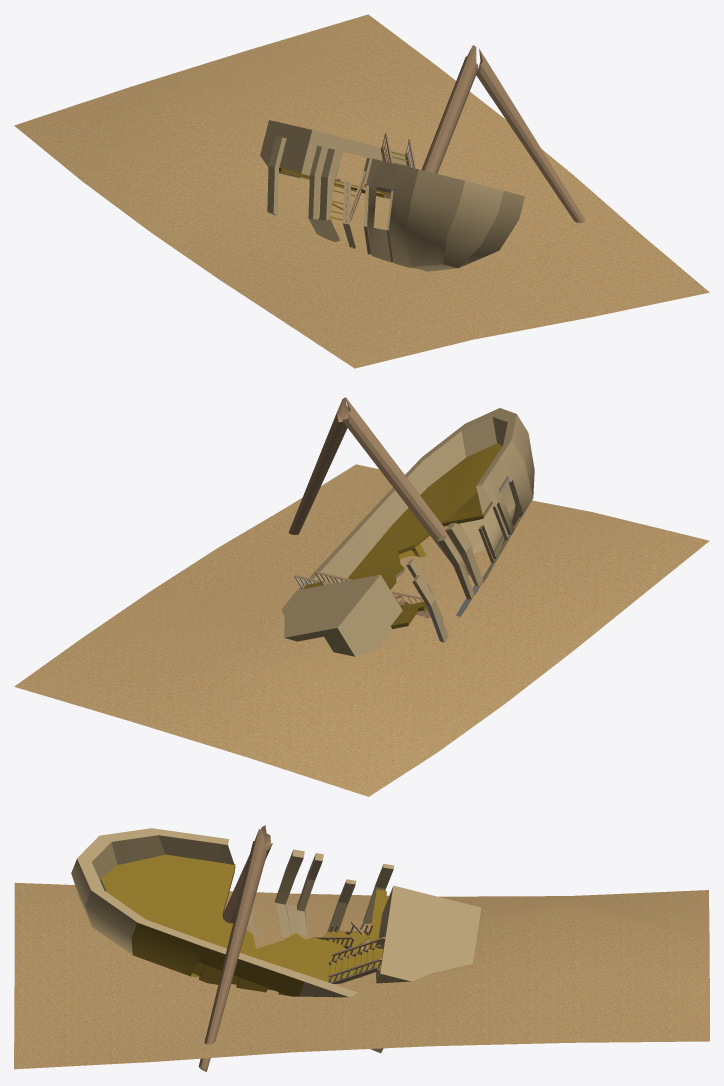
The model's file is ship.fbx.
3 renders of one model, top to bottom at view 1: azimuth 30°, elevation 25°; view 2: azimuth 150°, elevation 25°; view 3: azimuth 270°, elevation 25°, orthographic.
Visible parts, largest first — view 1: polySurface165; view 2: polySurface165; view 3: polySurface165.
Boxes of the visible parts, x1,y1,x2,y2 form: polySurface165: [14, 14, 709, 368]; polySurface165: [14, 397, 709, 796]; polySurface165: [14, 825, 709, 1071].
Bounding box in the file's own units: 39.71 × 25.91 × 66.2.
Materials: 5 (1 with a texture image).
